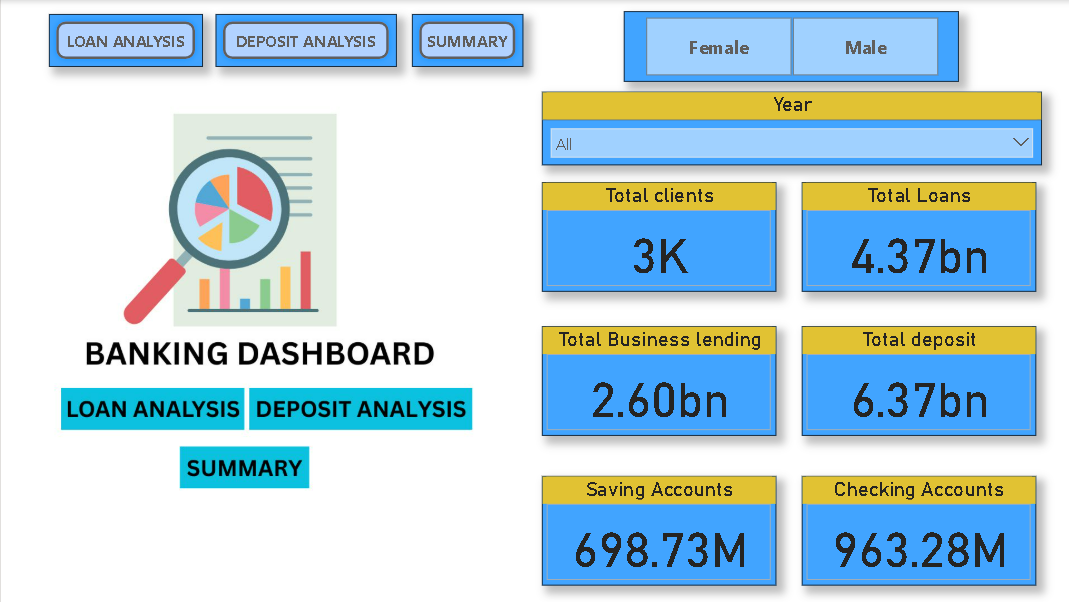

The dashboard page shown, as its layout file describes it:
{"tool":"powerbi","page":{"name":"HOME","canvas":[1280,720],"ordinal":0},"visuals":[{"type":"cardVisual","title":"Total clients ","fields":{"Data":["CountNonNull(Banking.Client ID)"]},"box":[647.4,218.7,280.5,131.3],"z":0},{"type":"cardVisual","title":"Total Loans ","fields":{"Data":["Banking.Total Loans"]},"box":[958.5,218.7,280.5,131.3],"z":1000},{"type":"cardVisual","title":"Total Business lending ","fields":{"Data":["Sum(Banking.Business Lending)"]},"box":[647.4,391.3,280.5,131.3],"z":2000},{"type":"cardVisual","title":"Total deposit ","fields":{"Data":["Banking.Total Bank Deposit"]},"box":[958.5,391.3,280.5,131.3],"z":3000},{"type":"cardVisual","title":"Saving Accounts ","fields":{"Data":["Sum(Banking.Saving Accounts)"]},"box":[647.4,569.3,280.5,131.3],"z":4000},{"type":"cardVisual","title":"Checking Accounts ","fields":{"Data":["Sum(Banking.Checking Accounts)"]},"box":[958.5,569.3,280.5,131.3],"z":5000},{"type":"slicer","fields":{"Values":["Banking.GenderId"]},"box":[745.5,13.5,400.7,84.5],"z":6000},{"type":"slicer","title":"Year","fields":{"Values":["Banking.Joined Bank.Variation.Date Hierarchy.Year","Banking.Joined Bank.Variation.Date Hierarchy.Quarter","Banking.Joined Bank.Variation.Date Hierarchy.Month","Banking.Joined Bank.Variation.Date Hierarchy.Day"]},"box":[647.5,109.9,598.4,87.9],"z":7000},{"type":"actionButton","box":[57.1,16.5,184,63],"z":8000},{"type":"actionButton","box":[256.5,16.5,216.4,63],"z":9000},{"type":"actionButton","box":[491.7,16.5,132.9,63],"z":10000}]}

Visuals, with their boxes in screenshot pixels (x1, y1, x2, y2), scaled from the page's 1280x720 canvas onto the 1069x602 screenshot:
"Total clients " cardVisual: [541,183,775,293]
"Total Loans " cardVisual: [800,183,1035,293]
"Total Business lending " cardVisual: [541,327,775,437]
"Total deposit " cardVisual: [800,327,1035,437]
"Saving Accounts " cardVisual: [541,476,775,586]
"Checking Accounts " cardVisual: [800,476,1035,586]
slicer - Banking.GenderId: [623,11,957,82]
"Year" slicer: [541,92,1041,165]
actionButton: [48,14,201,66]
actionButton: [214,14,395,66]
actionButton: [411,14,522,66]
